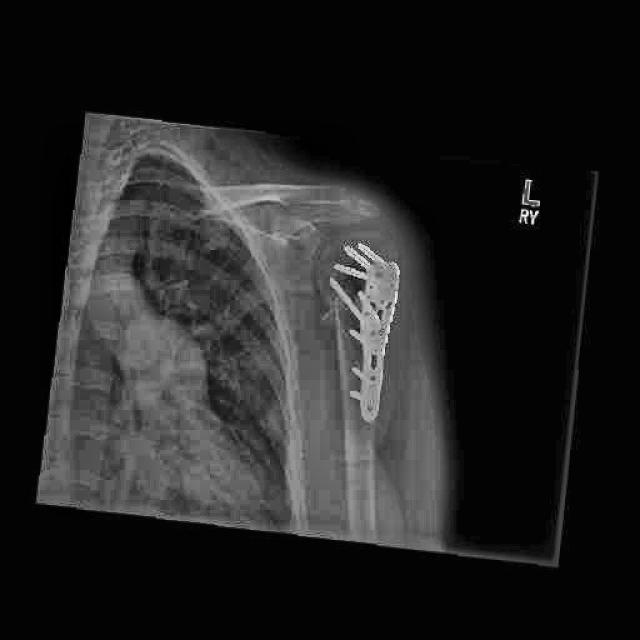forearm fracture: (322, 281, 375, 323)
